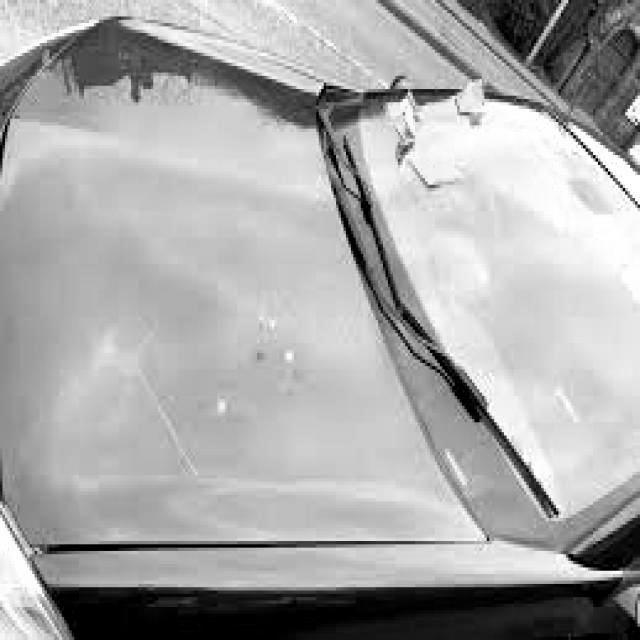bonnet-dent: (0, 258, 336, 591)
